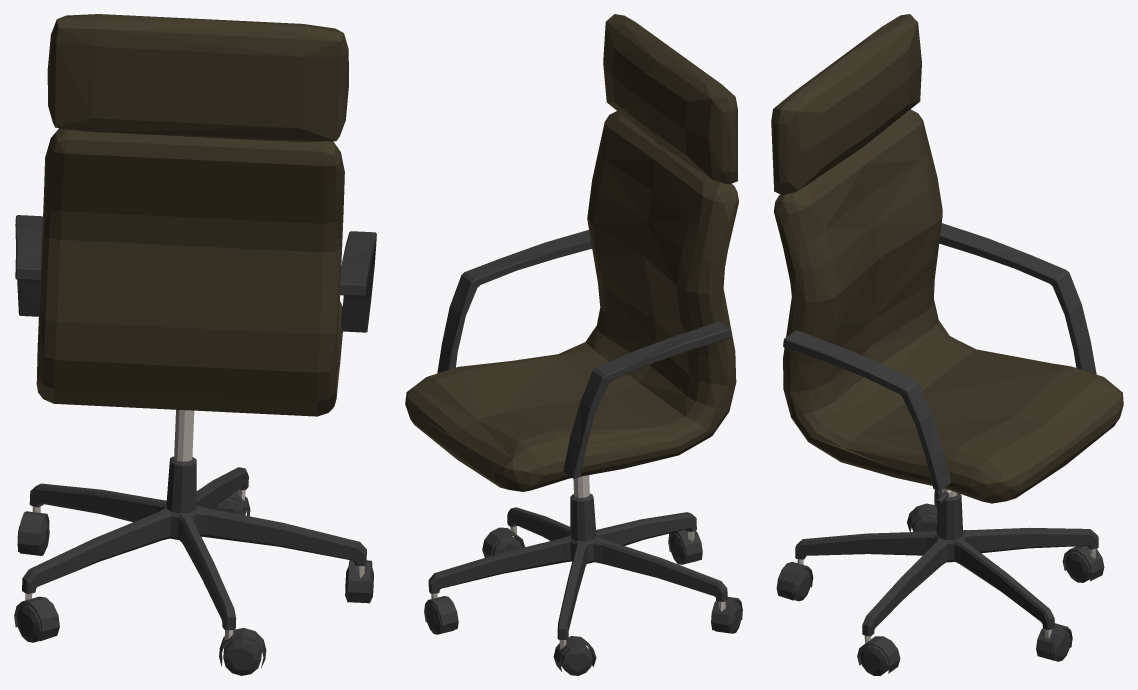
Rendered from node_lev1_lev3.glb.
The picture shows the model from 3 angles, left to right: view 1: azimuth 30°, elevation 25°; view 2: azimuth 150°, elevation 25°; view 3: azimuth 270°, elevation 25°; orthographic projection. The views are drawn at different scales.
Visible parts, largest first — view 1: node_lev1_lev3; view 2: node_lev1_lev3; view 3: node_lev1_lev3.
Boxes of the visible parts, bbox=[...] form: node_lev1_lev3: bbox=[14, 14, 376, 675]; node_lev1_lev3: bbox=[405, 14, 742, 675]; node_lev1_lev3: bbox=[771, 14, 1123, 675].
Bounding box in the file's own units: 1.45 × 2.52 × 1.49.
